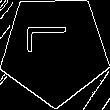L_E: (30, 34, 79, 65)
